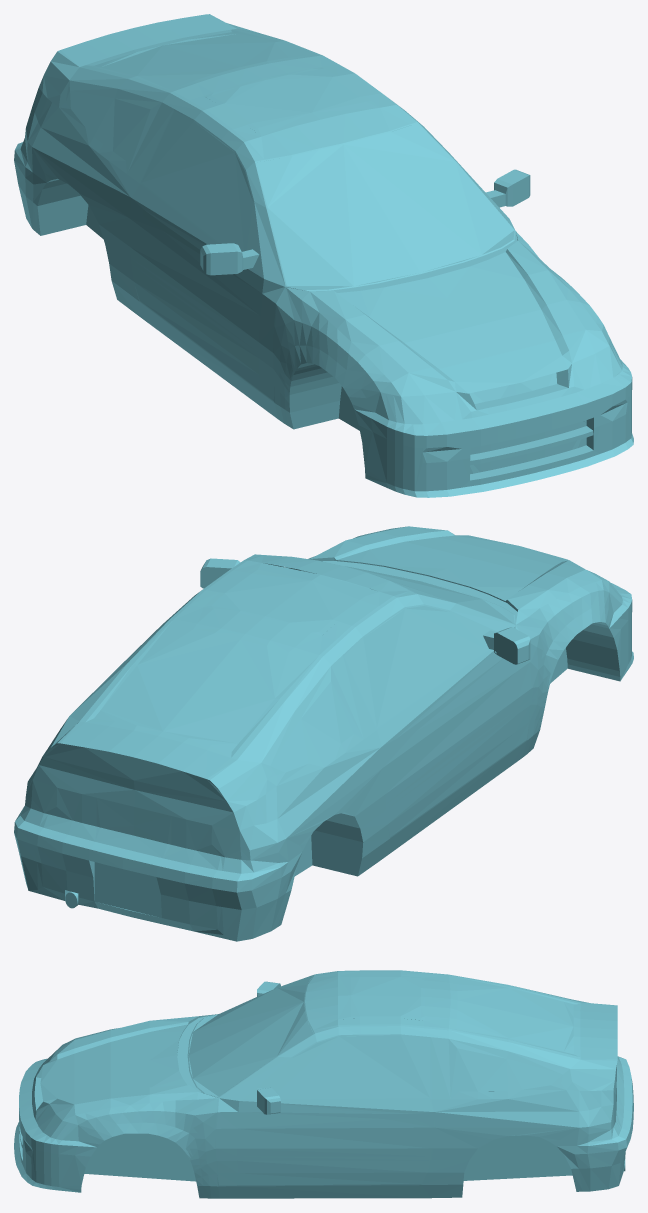
The model's file is eclipse.glb.
The picture shows the model from 3 angles, top to bottom: view 1: azimuth 30°, elevation 25°; view 2: azimuth 150°, elevation 25°; view 3: azimuth 270°, elevation 25°; orthographic projection. The views are drawn at different scales.
Parts seen in each view (by area): view 1: Body, Glass, Dark, Headlight, Accent; view 2: Body, Glass, Dark, Taillight, Accent, Headlight; view 3: Body, Glass, Dark, Accent, Headlight.
Part boxes in pixels (bbox=[...]): Body: bbox=[14, 14, 632, 491]; Glass: bbox=[66, 32, 514, 289]; Dark: bbox=[14, 29, 633, 497]; Headlight: bbox=[401, 346, 621, 424]; Accent: bbox=[25, 106, 627, 462]; Body: bbox=[14, 526, 631, 941]; Glass: bbox=[94, 554, 515, 775]; Dark: bbox=[14, 561, 633, 941]; Taillight: bbox=[31, 780, 299, 859]; Accent: bbox=[25, 582, 622, 860]; Headlight: bbox=[83, 797, 184, 845]; Body: bbox=[19, 970, 632, 1198]; Glass: bbox=[188, 975, 573, 1099]; Dark: bbox=[14, 974, 633, 1192]; Accent: bbox=[23, 1105, 613, 1158]; Headlight: bbox=[34, 1046, 62, 1137].
Bounding box in the file's own units: 1.9 × 1.19 × 4.2.
